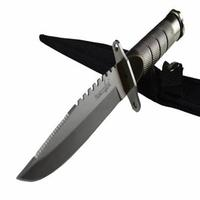knife: (14, 15, 178, 190)
